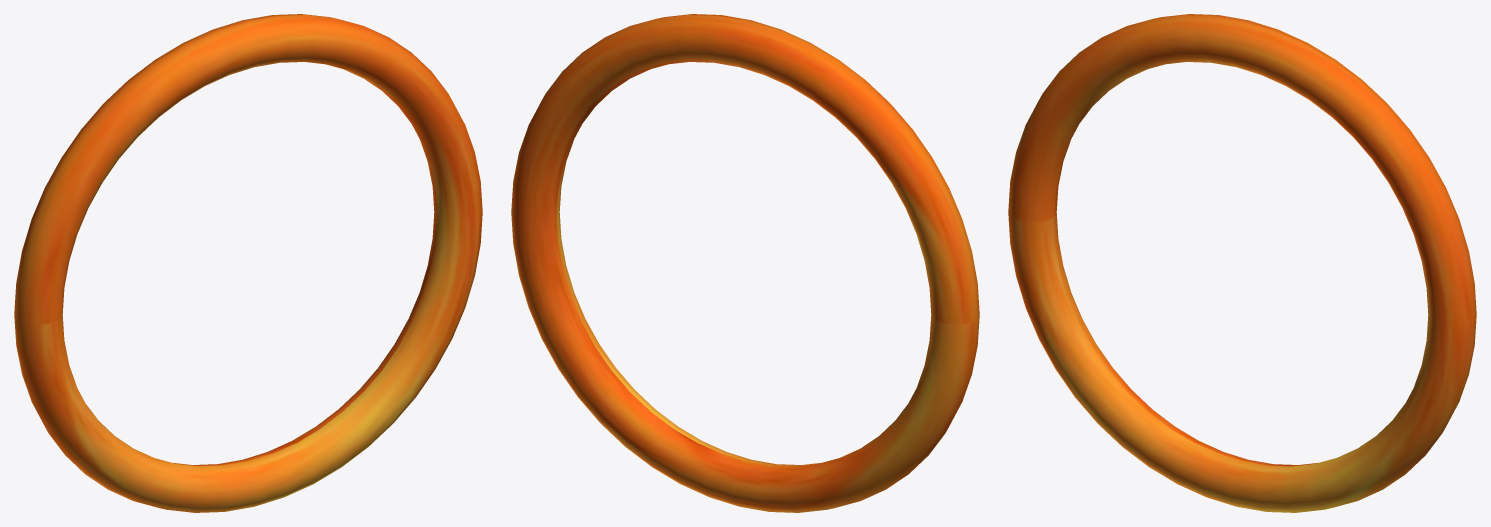
Rendered from FireRingReal4.fbx.
The picture shows the model from 3 angles, left to right: view 1: azimuth 30°, elevation 25°; view 2: azimuth 150°, elevation 25°; view 3: azimuth 330°, elevation 25°; orthographic projection.
Visible parts, largest first — view 1: Torus.002; view 2: Torus.002; view 3: Torus.002.
Part boxes in pixels (x1,y1,x2,y2): Torus.002: (14,14,482,512); Torus.002: (511,14,979,512); Torus.002: (1008,14,1476,512).
Bounding box in the file's own units: 510 × 510 × 46.33.
Materials: 1 (1 with a texture image).
